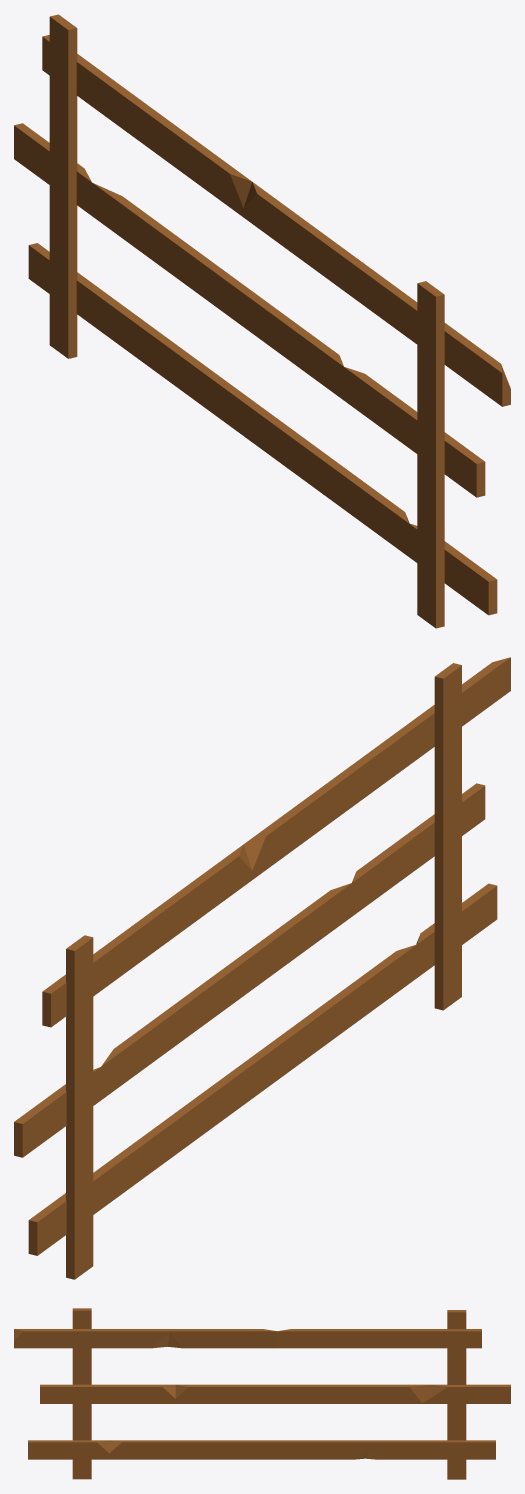
The model's file is fence3.fbx.
3 views of the same model, one above another, from view 1: azimuth 30°, elevation 25°; view 2: azimuth 150°, elevation 25°; view 3: azimuth 270°, elevation 25° (orthographic). The views are drawn at different scales.
Visible parts, largest first — view 1: Cube.016; view 2: Cube.016; view 3: Cube.016.
Boxes of the visible parts, <box> form: Cube.016: <box>14,14,510,628</box>; Cube.016: <box>14,657,510,1279</box>; Cube.016: <box>14,1308,510,1479</box>.
Bounding box in the file's own units: 10.81 × 197 × 525.
